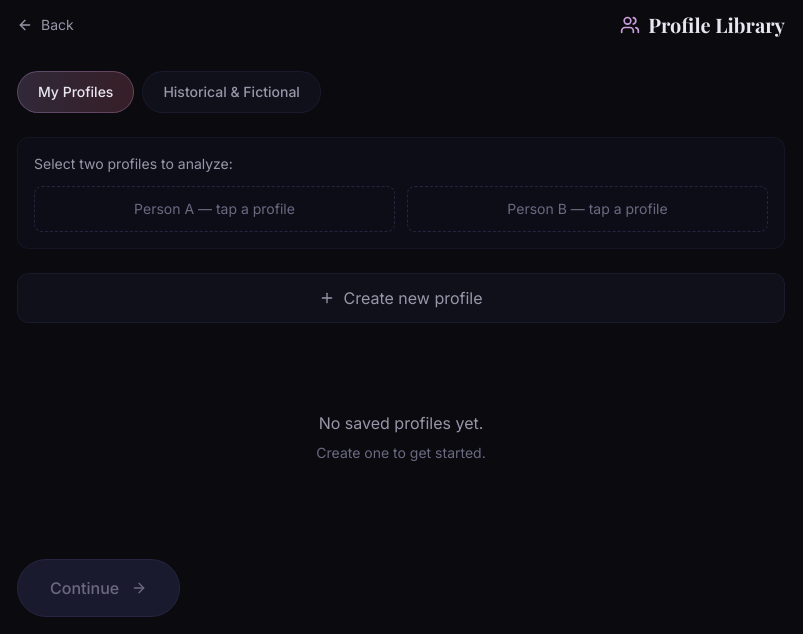
Scenario: ProfileLibrary › can select a fictional profile for slot A or B
The width and height of the screenshot is (803, 634).
Click the tab "Historical & Fictional".
click(232, 92)  # box [142, 71, 321, 113]
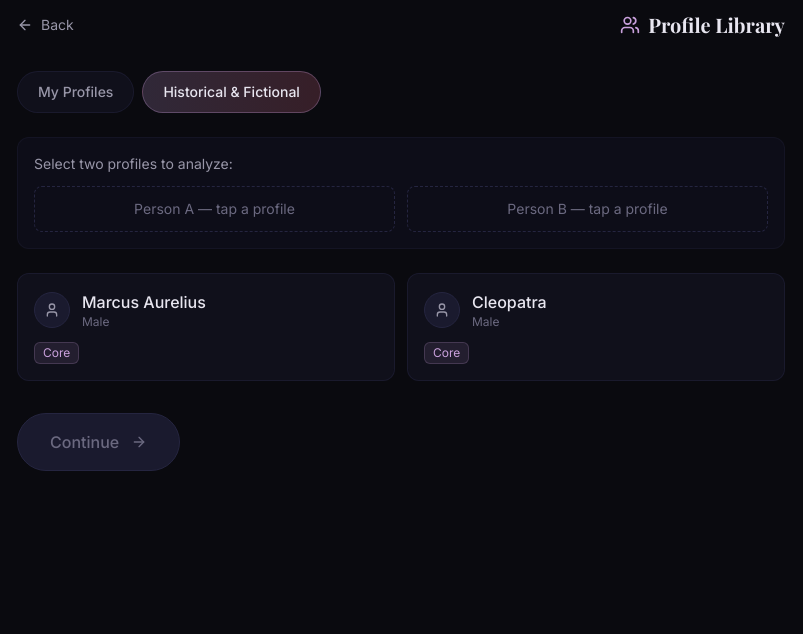
Click the heading "Marcus Aurelius".
click(144, 302)  # box [82, 290, 206, 314]
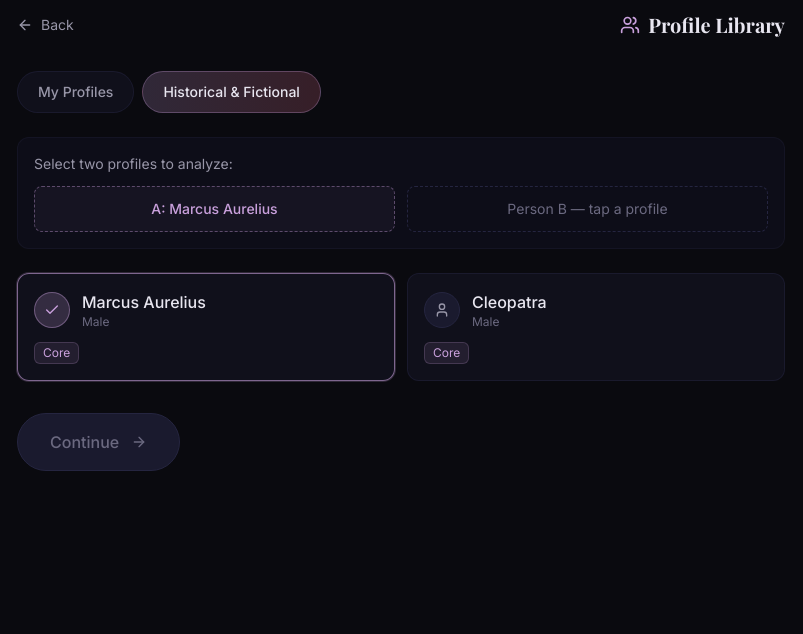
Now the text "A: Marcus Aurelius" is shown, box [151, 200, 278, 217]
Click the heading "Cleopatra".
click(509, 302)  # box [472, 290, 547, 314]
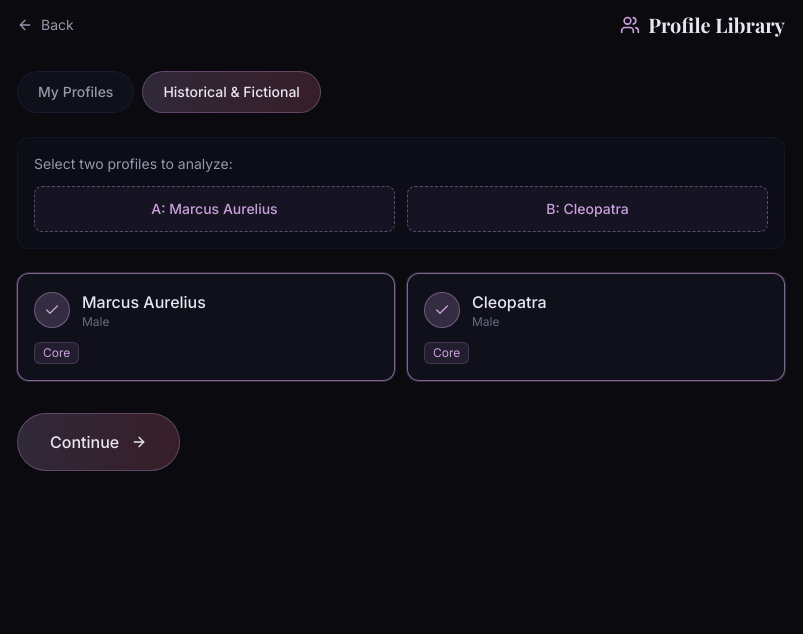
Now the text "B: Cleopatra" is shown, box [546, 200, 629, 217]
